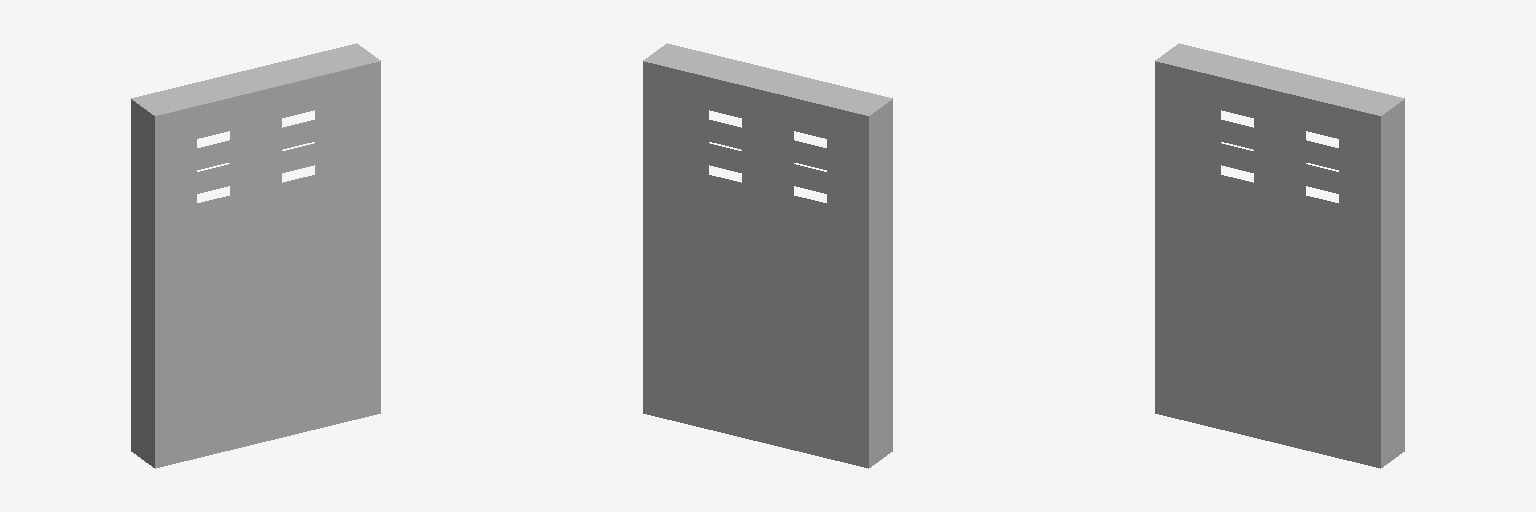
The model's file is door.obj.
3 views of the same model, side by side, from view 1: azimuth 30°, elevation 25°; view 2: azimuth 150°, elevation 25°; view 3: azimuth 330°, elevation 25° (orthographic).
Visible parts, largest first — view 1: Top_Cube, Down_Cube.002; view 2: Top_Cube, Down_Cube.002; view 3: Top_Cube, Down_Cube.002.
Boxes of the visible parts, <box> form: Top_Cube: <box>131,43,380,291</box>; Down_Cube.002: <box>131,237,380,468</box>; Top_Cube: <box>643,43,892,291</box>; Down_Cube.002: <box>643,237,892,468</box>; Top_Cube: <box>1155,43,1404,291</box>; Down_Cube.002: <box>1155,237,1404,468</box>.
Bounding box in the file's own units: 10.76 × 16 × 2.